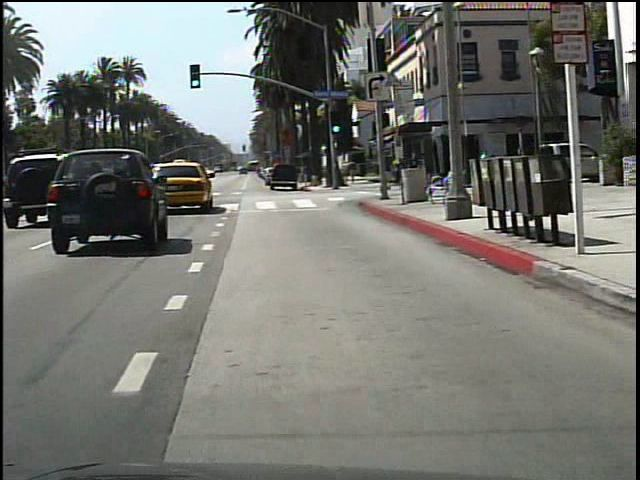person: (477, 147, 496, 191), (384, 150, 400, 194)
